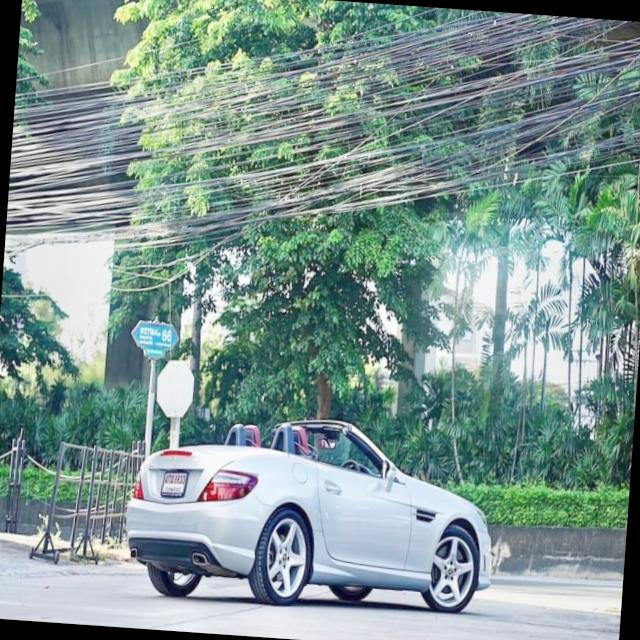license_plate: (156, 463, 191, 504)
